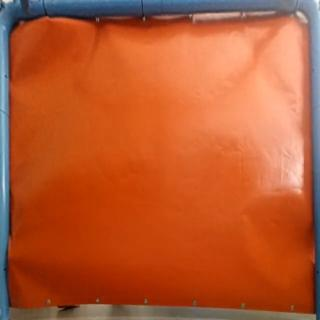Hit-hRxx: (5, 251, 18, 261)
